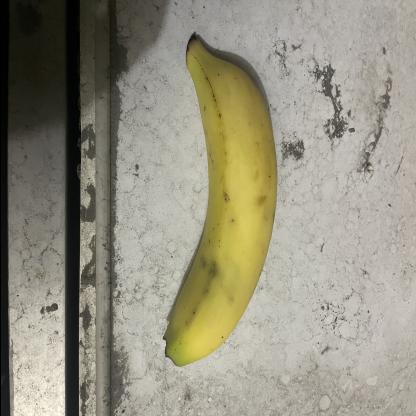banana: (158, 37, 281, 372)
